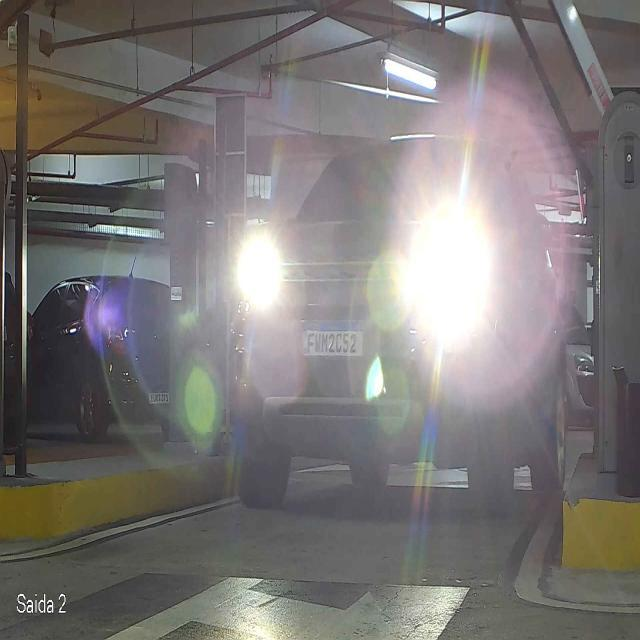mercosul_plate: (299, 321, 365, 357)
